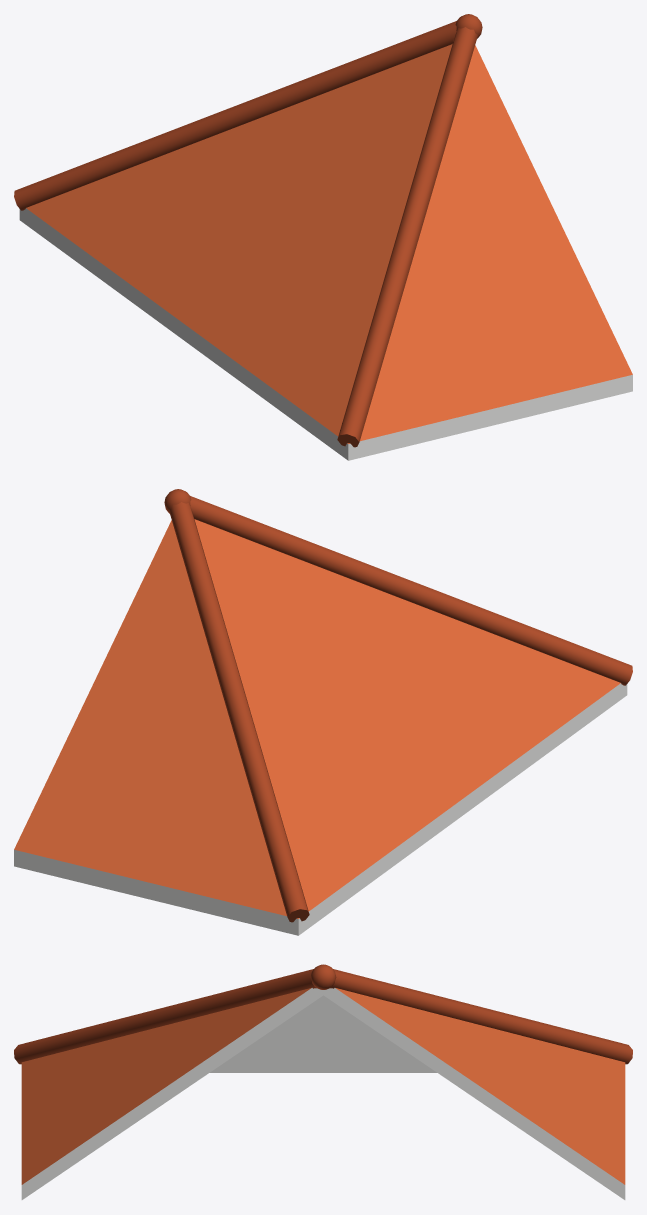
The model's file is telhado_quatro_aguas_ponta_v4_i75.glb.
The picture shows the model from 3 angles, top to bottom: view 1: azimuth 30°, elevation 25°; view 2: azimuth 150°, elevation 25°; view 3: azimuth 270°, elevation 25°; orthographic projection. The views are drawn at different scales.
Visible parts, largest first — view 1: telhado_quatro_aguas_ponta_v4_i75; view 2: telhado_quatro_aguas_ponta_v4_i75; view 3: telhado_quatro_aguas_ponta_v4_i75.
Boxes of the visible parts, box(x1,y1,x2,y2) form: telhado_quatro_aguas_ponta_v4_i75: box(14, 14, 632, 460); telhado_quatro_aguas_ponta_v4_i75: box(14, 489, 632, 935); telhado_quatro_aguas_ponta_v4_i75: box(14, 964, 632, 1199).
Bounding box in the file's own units: 2.14 × 1.72 × 4.1.
